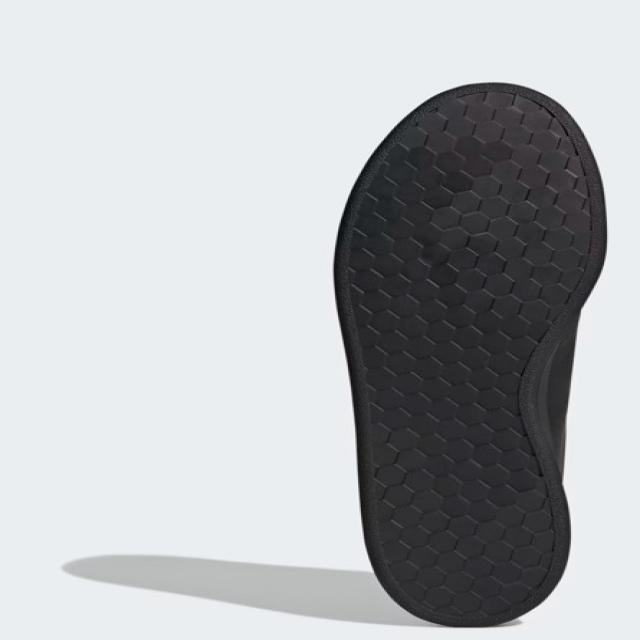shoe: (327, 79, 614, 630)
